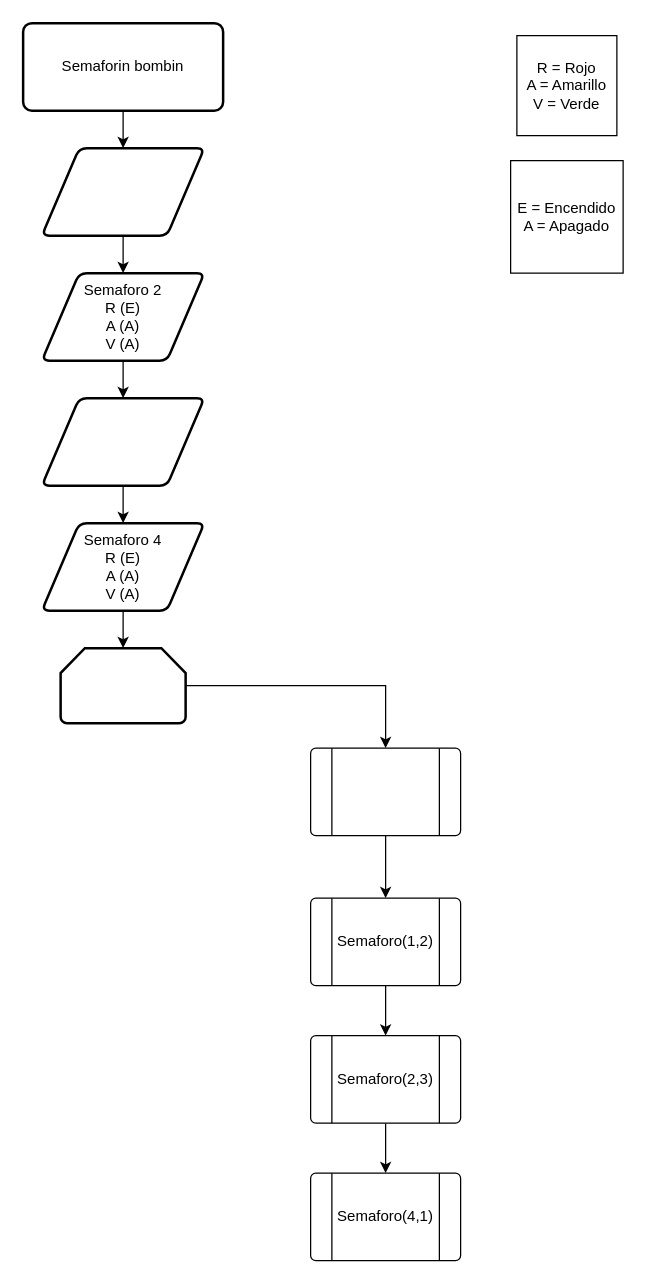
Image size: 645x1283. Some labels were removed from this diagram. The centre of each missing label's shape, as x and y in pixels:
Bucle: point (122, 685)
Semaforo 1 R (E) A (A) V (A): point (122, 191)
Semaforo 3 R (E) A (A) V (A): point (122, 441)
Semaforo(3,4): point (385, 791)
